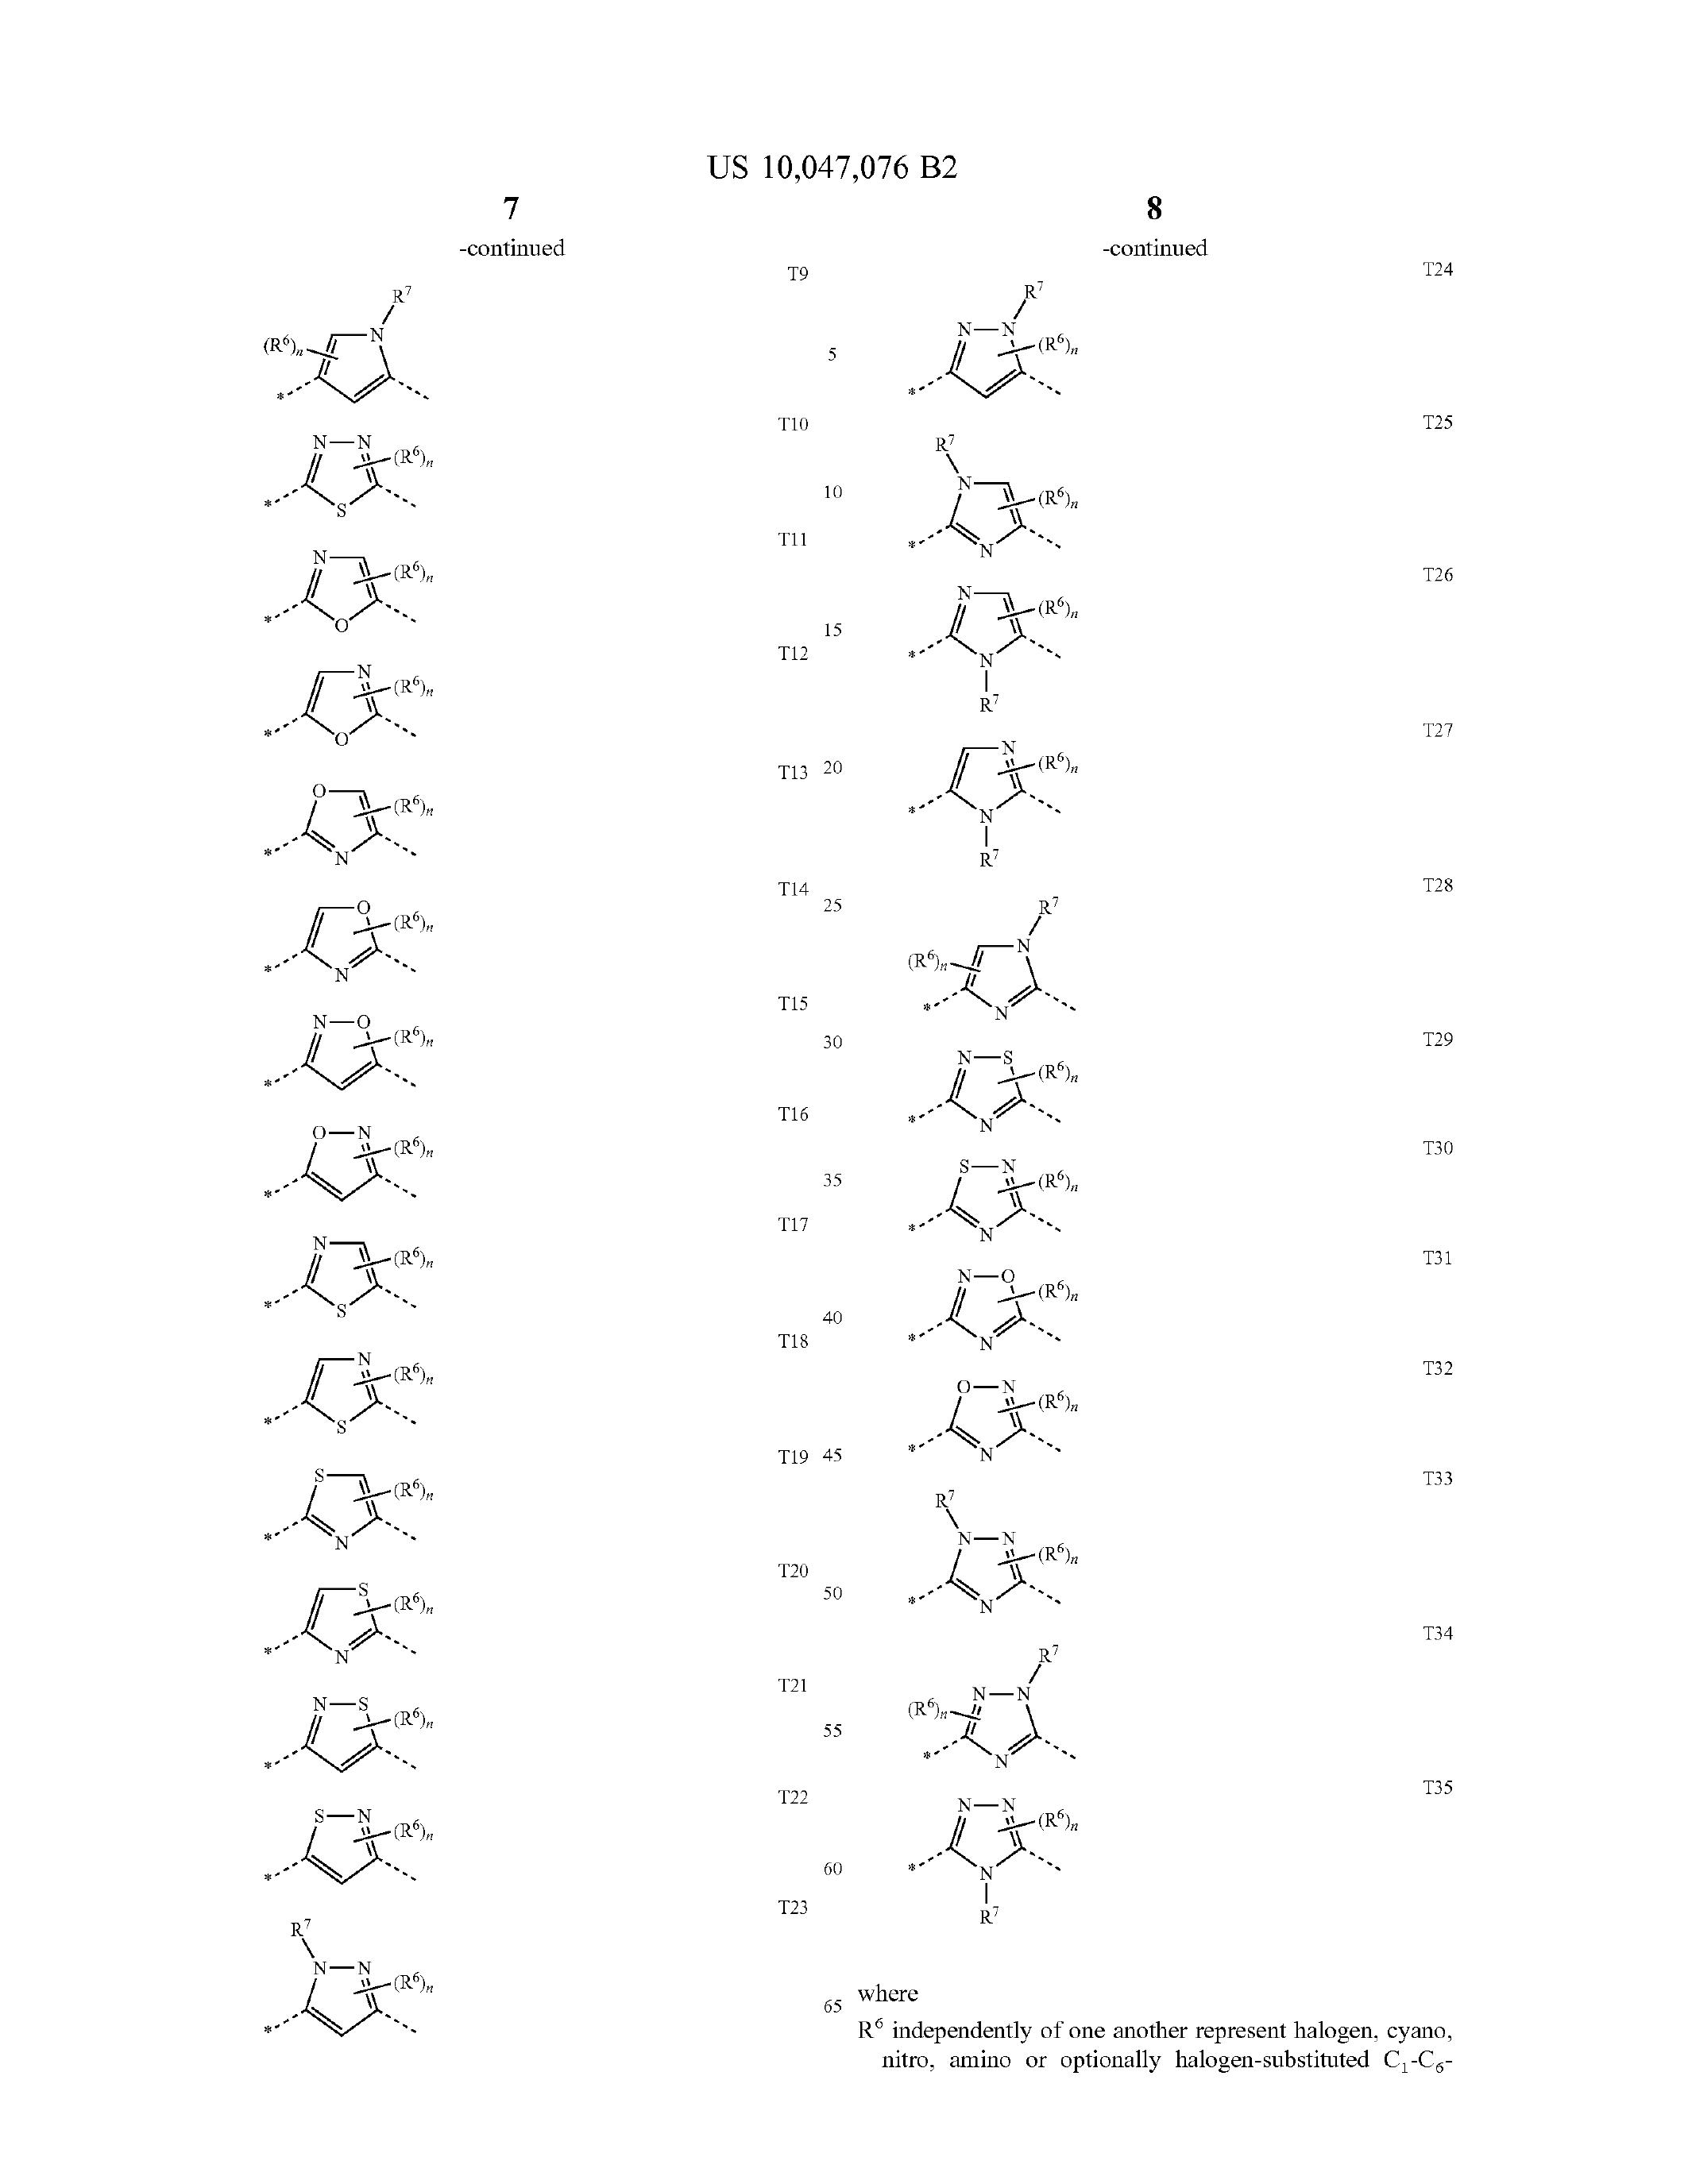substitutes: (892, 275, 1108, 869), (864, 1622, 1261, 1927)
